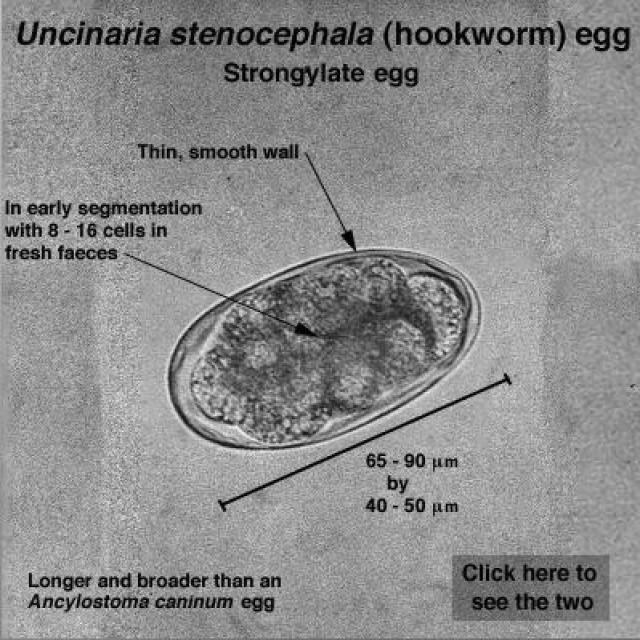Ancylostoma Spp: (155, 240, 490, 462)
